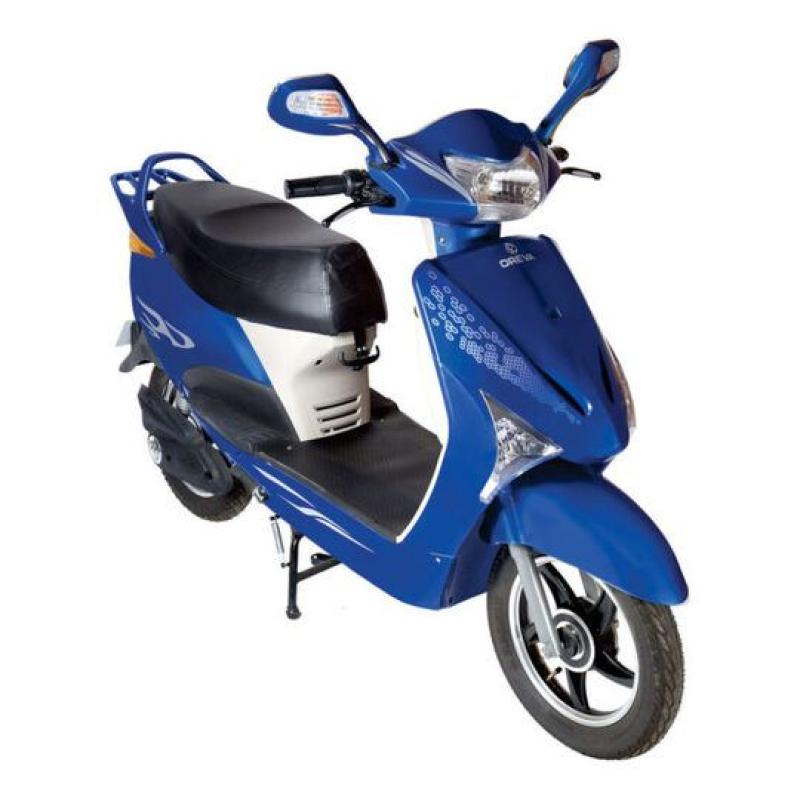bike: (87, 21, 709, 759)
